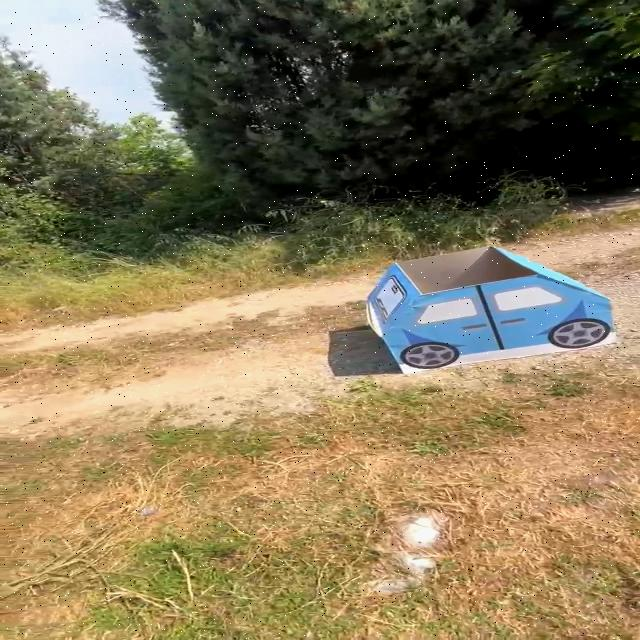blue_car: (356, 233, 636, 383)
